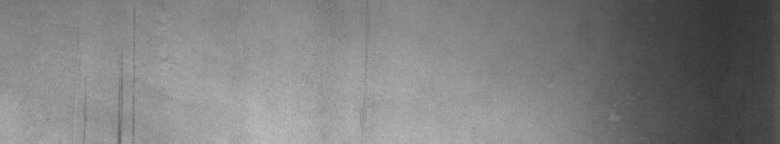ka: (84, 77, 135, 136)
